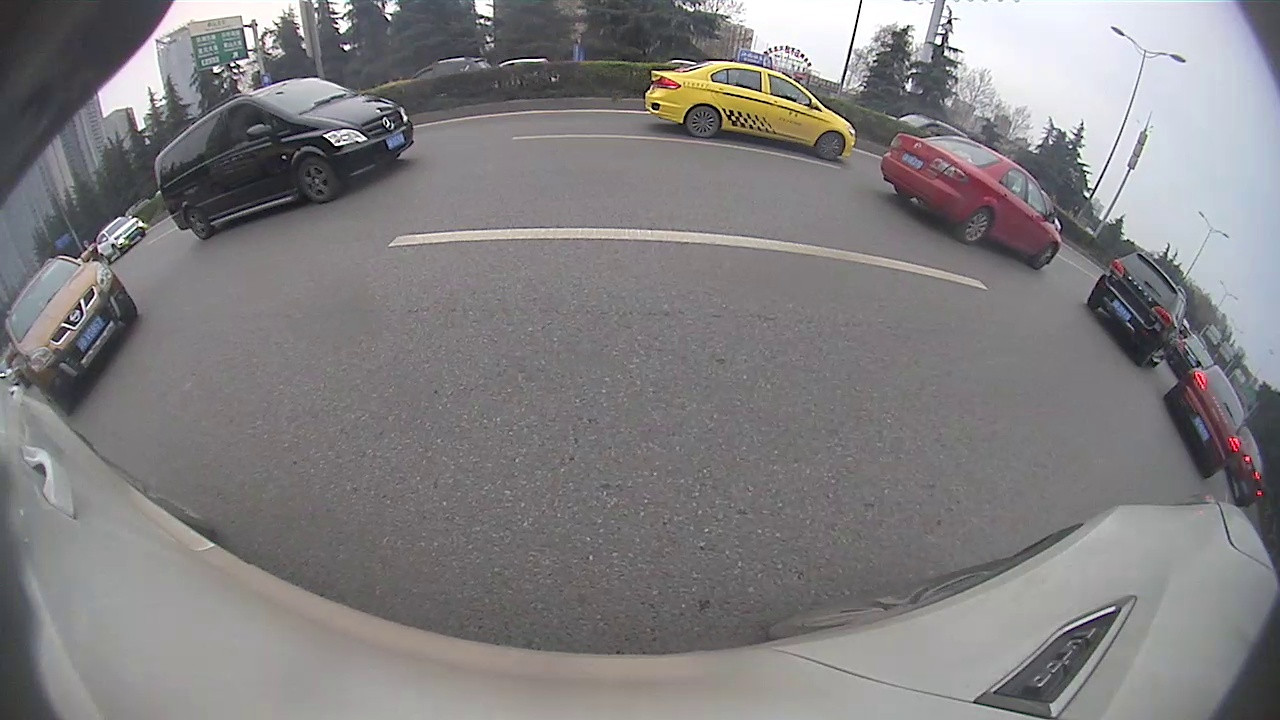car: (150, 76, 413, 240), (880, 131, 1061, 271), (643, 50, 858, 164), (5, 253, 140, 412), (1085, 248, 1189, 368), (1165, 365, 1249, 480), (92, 216, 151, 263)
front: (298, 158, 336, 202), (816, 131, 845, 160), (1031, 242, 1056, 269)
rear: (687, 104, 721, 139), (961, 210, 992, 243), (183, 207, 213, 240)
